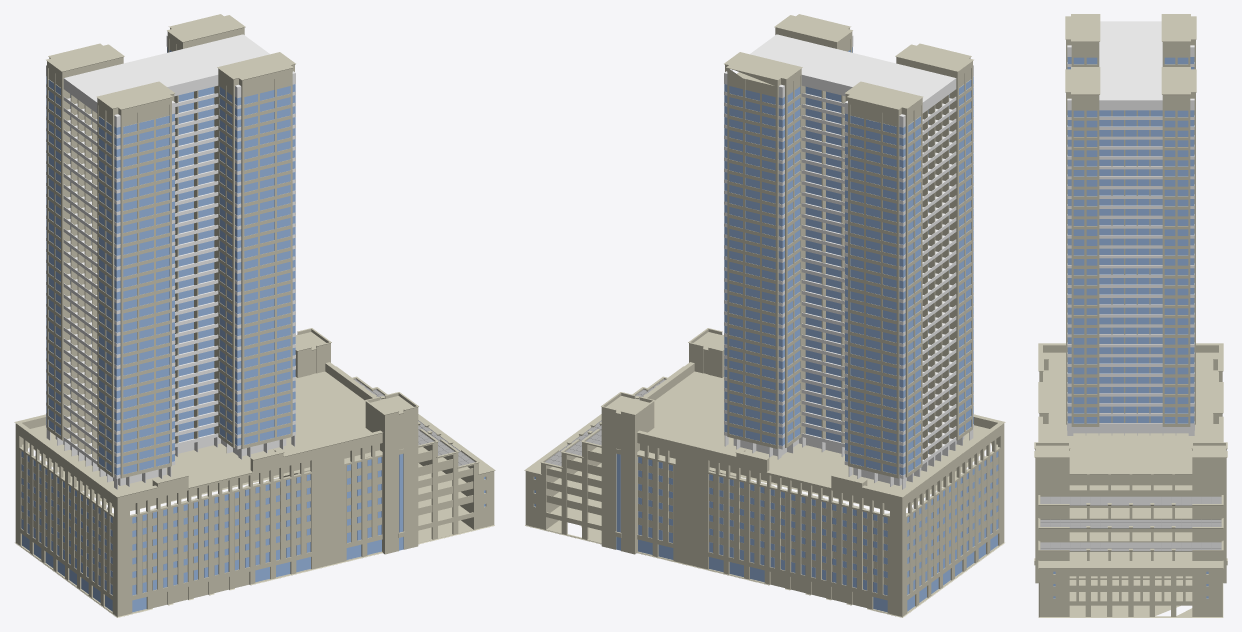
The model's file is skyscraper.glb.
The picture shows the model from 3 angles, left to right: view 1: azimuth 30°, elevation 25°; view 2: azimuth 150°, elevation 25°; view 3: azimuth 270°, elevation 25°; orthographic projection. The views are drawn at different scales.
Visible parts, largest first — view 1: G_2_2, G_2_1, G_3_1, G_1_1, G_4356_1, G_4356_2, G_4356_4, G_4356_3, G_1_2, G_22_1, G_23213_18, G_23213_19 (+61 smaller); view 2: G_2_1, G_2_2, G_3_2, G_1_2, G_4356_4, G_4356_3, G_4356_2, G_4356_1, G_1_1, G_22_2, G_23213_81, G_23213_82 (+61 smaller); view 3: G_3_1, G_3_2, G_2_1, G_2_2, G_4356_1, G_4356_3, G_4356_2, G_4356_4, G_1_1, G_1_2, G_23213_4, G_23213_13 (+79 smaller).
Part boxes in pixels (x1,y1,x2,y2): G_2_2: [66, 387, 403, 616]; G_2_1: [15, 362, 362, 579]; G_3_1: [418, 429, 494, 543]; G_1_1: [365, 392, 418, 554]; G_4356_1: [171, 47, 295, 98]; G_4356_2: [81, 69, 188, 127]; G_4356_4: [46, 44, 170, 101]; G_4356_3: [153, 14, 260, 68]; G_1_2: [283, 328, 330, 477]; G_22_1: [184, 84, 295, 109]; G_23213_18: [184, 238, 295, 262]; G_23213_19: [184, 227, 295, 251]; G_2_1: [616, 387, 953, 616]; G_2_2: [657, 362, 1004, 579]; G_3_2: [525, 429, 601, 543]; G_1_2: [601, 392, 654, 554]; G_4356_4: [831, 69, 938, 127]; G_4356_3: [724, 47, 848, 98]; G_4356_2: [849, 44, 973, 101]; G_4356_1: [759, 14, 866, 68]; G_1_1: [689, 328, 736, 477]; G_22_2: [724, 72, 835, 109]; G_23213_81: [724, 238, 835, 262]; G_23213_82: [724, 227, 835, 251]; G_3_1: [1039, 495, 1130, 616]; G_3_2: [1131, 495, 1222, 616]; G_2_1: [1131, 343, 1222, 507]; G_2_2: [1039, 343, 1130, 507]; G_4356_1: [1066, 61, 1130, 110]; G_4356_3: [1131, 61, 1195, 110]; G_4356_2: [1066, 14, 1130, 60]; G_4356_4: [1131, 14, 1195, 60]; G_1_1: [1034, 442, 1069, 583]; G_1_2: [1192, 442, 1227, 583]; G_23213_4: [1066, 395, 1130, 407]; G_23213_13: [1066, 306, 1130, 318].
Bounding box in the file's own units: 7493 × 9327 × 3683.
